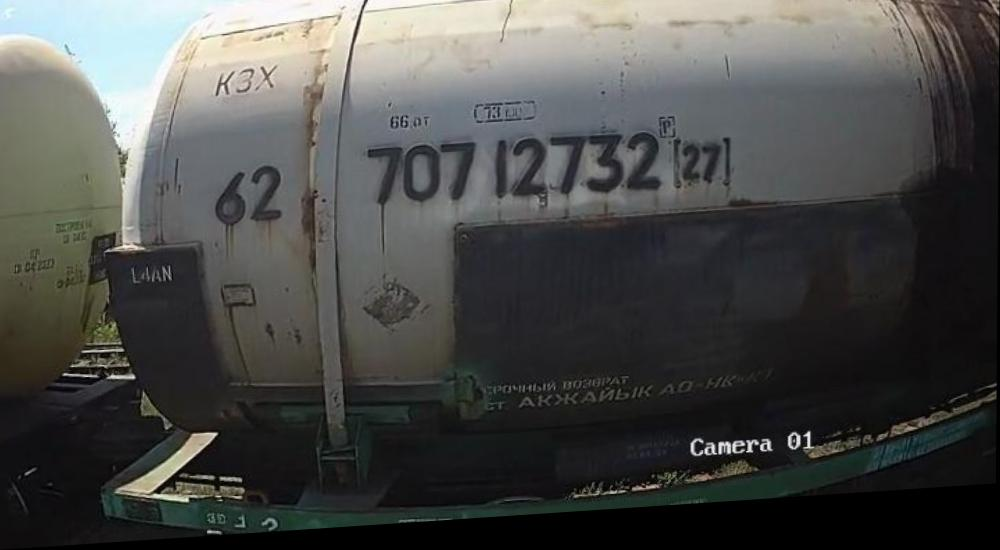Wagon-number: (361, 133, 667, 217)
